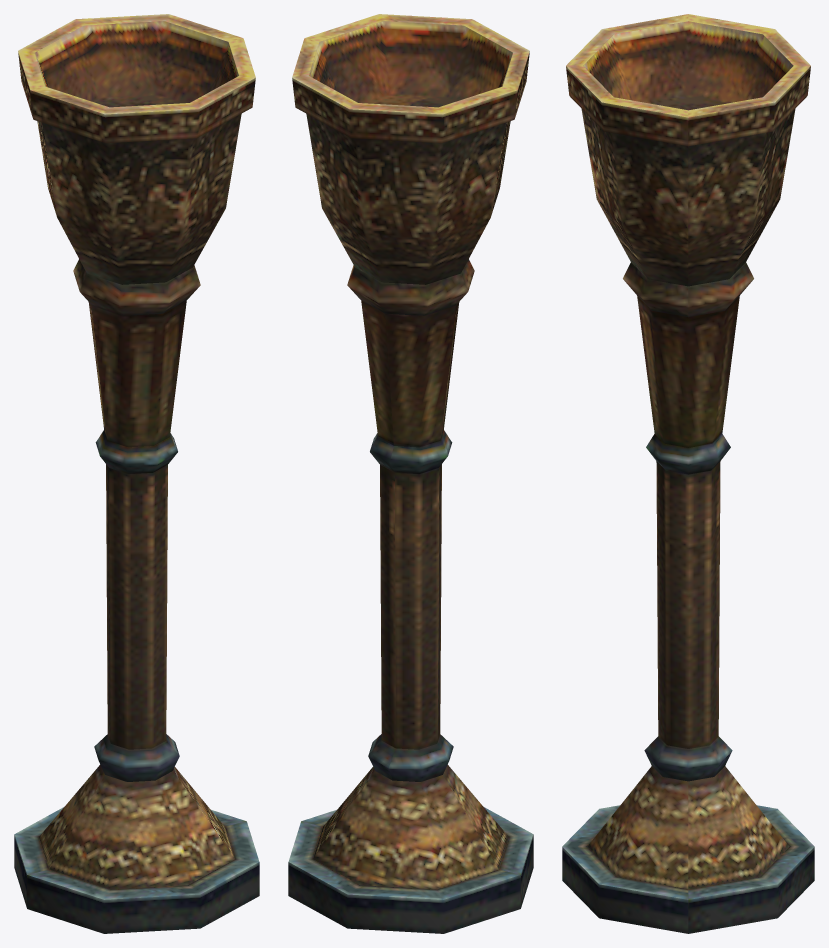
The picture shows the model from 3 angles, left to right: view 1: azimuth 30°, elevation 25°; view 2: azimuth 150°, elevation 25°; view 3: azimuth 270°, elevation 25°; orthographic projection.
Visible parts, largest first — view 1: torch_01; view 2: torch_01; view 3: torch_01.
Part boxes in pixels (box(x1,y1,x2,y2)): torch_01: box(14, 14, 259, 933); torch_01: box(288, 14, 533, 933); torch_01: box(562, 14, 814, 933).
Bounding box in the file's own units: 0.0132 × 0.0468 × 0.0132.
1 material, 1 textured.
